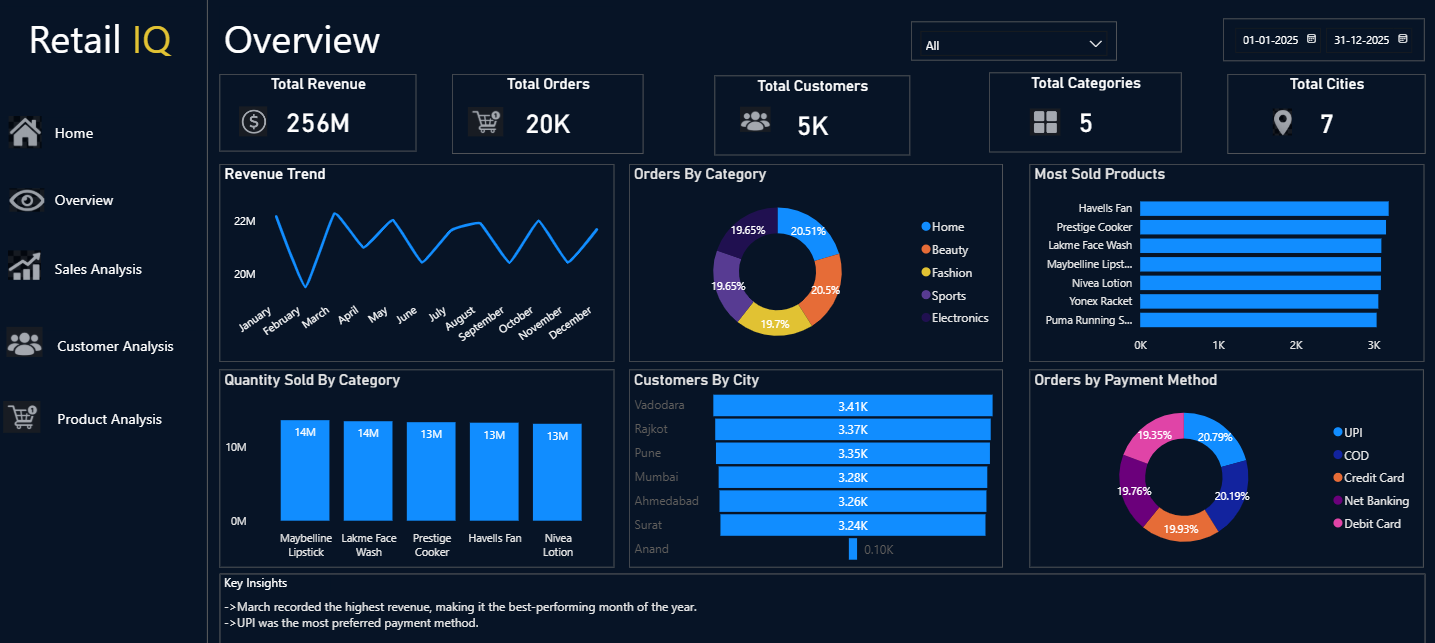

What the dashboard file says about the page in this screenshot:
{"tool":"powerbi","page":{"name":"Overview","canvas":[1600,720],"ordinal":1},"visuals":[{"type":"shape","box":[0,0,232,720],"z":0},{"type":"textbox","box":[0,8,224,88],"z":1000},{"type":"textbox","box":[0,132,224,52],"z":2000},{"type":"textbox","box":[0,206,224,52],"z":3000},{"type":"textbox","box":[0,284,224,52],"z":4000},{"type":"textbox","box":[0,368,224,52],"z":5000},{"type":"card","title":"Total Revenue","fields":{"Values":["Sum(Cleaned_Ecommercedataset.order_value)"]},"box":[245.7,82.9,218.6,85.7],"z":6000},{"type":"card","title":"Total Orders","fields":{"Values":["CountNonNull(Cleaned_Ecommercedataset.order_id)"]},"box":[502.9,82.9,212.9,88.6],"z":7000},{"type":"card","title":"Total Customers","fields":{"Values":["Count(Cleaned_Ecommercedataset.customer_id)"]},"box":[795.7,84.3,217.1,88.6],"z":8000},{"type":"card","title":"Total Categories","fields":{"Values":["Count(Cleaned_Ecommercedataset.category)"]},"box":[1100,81.4,214.3,88.6],"z":9000},{"type":"image","box":[267.1,112.9,31.4,45.7],"z":10000},{"type":"image","box":[515.7,120,51.4,32.9],"z":11000},{"type":"image","box":[822.9,111.4,34.3,44.3],"z":12000},{"type":"image","box":[1132.9,121.4,58.6,30],"z":13000},{"type":"image","box":[3.3,446.7,43.3,35],"z":14000},{"type":"image","box":[8.3,358.3,40,45],"z":15000},{"type":"image","box":[10,130,38,36],"z":16000},{"type":"image","box":[10,273.3,36.7,45],"z":17000},{"type":"textbox","box":[46.7,450,176.7,51.7],"z":18000},{"type":"image","box":[11.7,205,38.3,36.7],"z":19000},{"type":"textbox","box":[245.7,8.6,437.1,71.4],"z":20000},{"type":"slicer","fields":{"Values":["Cleaned_Ecommercedataset.category"]},"box":[1013.3,25,228.3,43.3],"z":21000},{"type":"lineChart","title":"Revenue Trend","fields":{"Y":["Sum(Cleaned_Ecommercedataset.order_value)"],"Category":["Cleaned_Ecommercedataset.order_date.Variation.Date Hierarchy.Month"]},"box":[245,183.3,438.3,220],"z":22000},{"type":"donutChart","title":"Orders By Category","fields":{"Category":["Cleaned_Ecommercedataset.category"],"Y":["CountNonNull(Cleaned_Ecommercedataset.order_id)"]},"box":[700,183.3,415,220],"z":23000},{"type":"clusteredBarChart","title":"Most Sold Products","fields":{"Y":["Sum(Cleaned_Ecommercedataset.quantity)"],"Category":["Cleaned_Ecommercedataset.product_name"]},"box":[1145,183.3,438.3,220],"z":24000},{"type":"slicer","fields":{"Values":["Cleaned_Ecommercedataset.order_date"]},"box":[1360,21.4,224.3,47.1],"z":25000},{"type":"clusteredColumnChart","title":"Quantity Sold By Category","fields":{"Category":["Cleaned_Ecommercedataset.product_name"],"Y":["Sum(Cleaned_Ecommercedataset.order_value)"]},"box":[245,411.7,438.3,220],"z":26000},{"type":"funnel","title":"Customers By City","fields":{"Category":["Cleaned_Ecommercedataset.city"],"Y":["CountNonNull(Cleaned_Ecommercedataset.customer_id)"]},"box":[700,412,415,220],"z":27000},{"type":"card","title":"Total Cities","fields":{"Values":["Count(Cleaned_Ecommercedataset.city)"]},"box":[1364.3,82.9,220,88.6],"z":28000},{"type":"image","box":[1397.1,121.4,58.6,30],"z":29000},{"type":"donutChart","title":"Orders by Payment Method","fields":{"Category":["Cleaned_Ecommercedataset.payment_method"],"Y":["CountNonNull(Cleaned_Ecommercedataset.order_id)"]},"box":[1145,412,438,220],"z":30000},{"type":"textbox","box":[245,633.3,123.3,31.7],"z":31000},{"type":"textbox","box":[245,660,1340,53.3],"z":32000},{"type":"shape","box":[245,638.3,1340,80],"z":33000},{"type":"shape","box":[1.7,271.7,195,61.7],"z":34000},{"type":"shape","box":[5,120,195,61.7],"z":35000},{"type":"shape","box":[6.7,360,195,61.7],"z":36000},{"type":"shape","box":[5,435,195,61.7],"z":37000}]}

Visuals, with their boxes in screenshot pixels (x1, y1, x2, y2), scaled from the page's 1600x720 canvas onto the 1435x643 screenshot:
shape: bbox=[0, 0, 208, 642]
textbox: bbox=[0, 7, 201, 86]
textbox: bbox=[0, 118, 201, 164]
textbox: bbox=[0, 184, 201, 230]
textbox: bbox=[0, 254, 201, 300]
textbox: bbox=[0, 329, 201, 375]
"Total Revenue" card: bbox=[220, 74, 416, 151]
"Total Orders" card: bbox=[451, 74, 642, 153]
"Total Customers" card: bbox=[714, 75, 908, 154]
"Total Categories" card: bbox=[987, 73, 1179, 152]
image: bbox=[240, 101, 268, 142]
image: bbox=[463, 107, 509, 137]
image: bbox=[738, 99, 769, 139]
image: bbox=[1016, 108, 1069, 135]
image: bbox=[3, 399, 42, 430]
image: bbox=[7, 320, 43, 360]
image: bbox=[9, 116, 43, 148]
image: bbox=[9, 244, 42, 284]
textbox: bbox=[42, 402, 200, 448]
image: bbox=[10, 183, 45, 216]
textbox: bbox=[220, 8, 612, 71]
slicer - Cleaned_Ecommercedataset.category: bbox=[909, 22, 1114, 61]
"Revenue Trend" lineChart: bbox=[220, 164, 613, 360]
"Orders By Category" donutChart: bbox=[628, 164, 1000, 360]
"Most Sold Products" clusteredBarChart: bbox=[1027, 164, 1420, 360]
slicer - Cleaned_Ecommercedataset.order_date: bbox=[1220, 19, 1421, 61]
"Quantity Sold By Category" clusteredColumnChart: bbox=[220, 368, 613, 564]
"Customers By City" funnel: bbox=[628, 368, 1000, 564]
"Total Cities" card: bbox=[1224, 74, 1421, 153]
image: bbox=[1253, 108, 1306, 135]
"Orders by Payment Method" donutChart: bbox=[1027, 368, 1420, 564]
textbox: bbox=[220, 566, 330, 594]
textbox: bbox=[220, 589, 1422, 637]
shape: bbox=[220, 570, 1422, 641]
shape: bbox=[2, 243, 176, 298]
shape: bbox=[4, 107, 179, 162]
shape: bbox=[6, 322, 181, 377]
shape: bbox=[4, 388, 179, 444]
